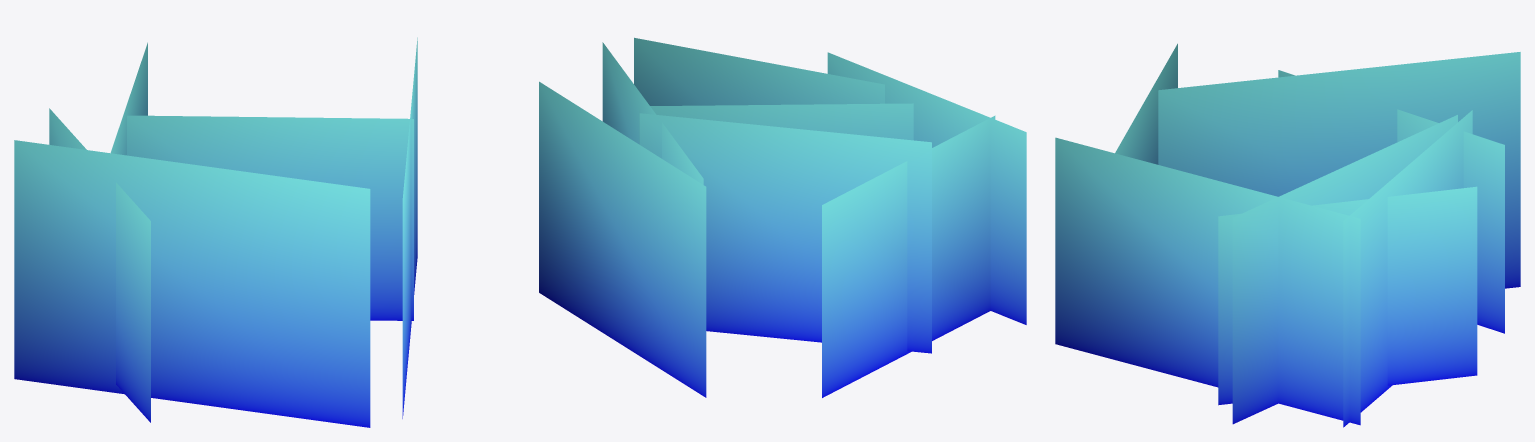
File: SM_Env_Grass_Tall_Clump_03.gltf
3 views of the same model, side by side, from view 1: azimuth 30°, elevation 25°; view 2: azimuth 150°, elevation 25°; view 3: azimuth 270°, elevation 25° (orthographic). The views are drawn at different scales.
Visible parts, largest first — view 1: SM_Env_Grass_Tall_Clump_03_LOD0; view 2: SM_Env_Grass_Tall_Clump_03_LOD0; view 3: SM_Env_Grass_Tall_Clump_03_LOD0.
Boxes of the visible parts, bbox=[...] form: SM_Env_Grass_Tall_Clump_03_LOD0: bbox=[14, 37, 417, 427]; SM_Env_Grass_Tall_Clump_03_LOD0: bbox=[539, 37, 1026, 397]; SM_Env_Grass_Tall_Clump_03_LOD0: bbox=[1055, 43, 1520, 427].
Size of the model in its own units: 1.72 by 0.9937 by 1.73.
